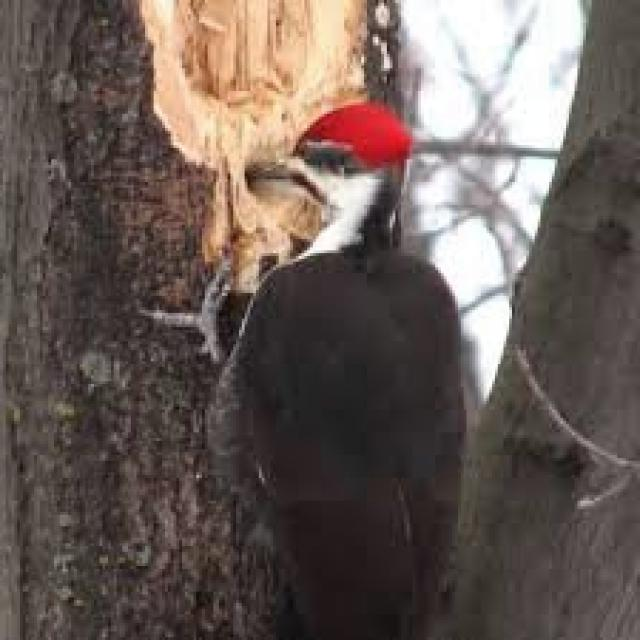woodpecker: (145, 102, 464, 637)
